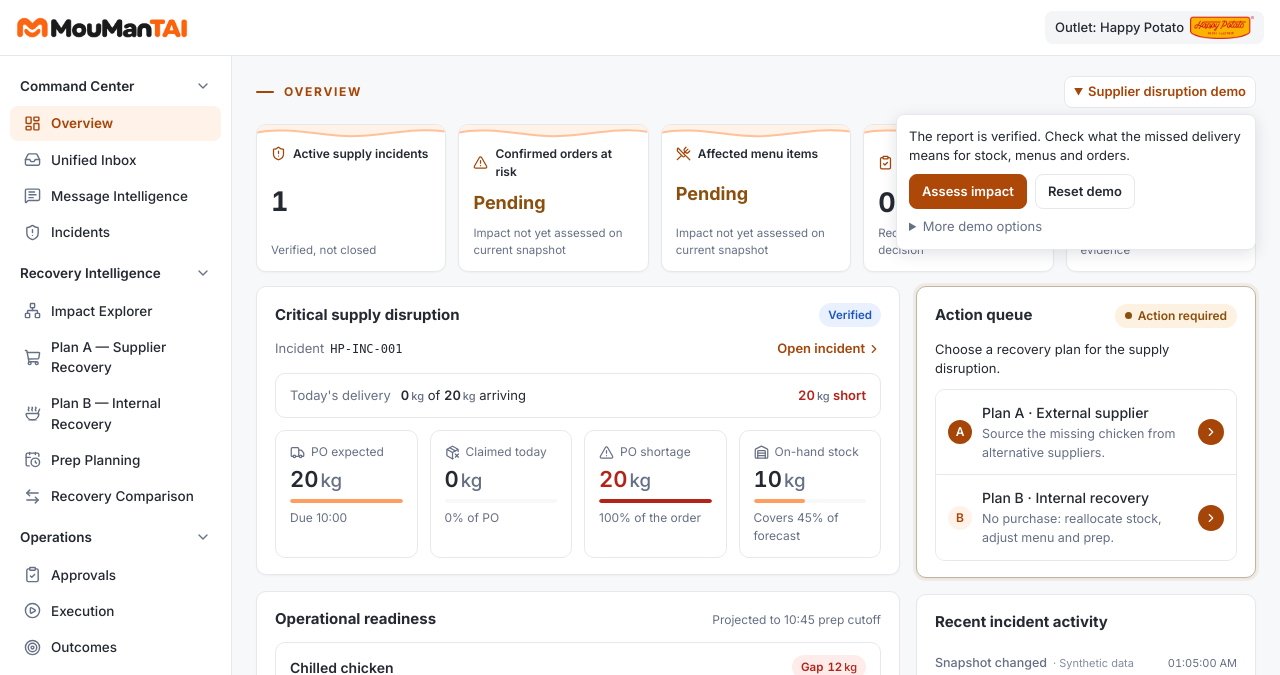
Operations Overview › shows Pending for verified-but-unassessed, then values after assessment
Expected: the text "Pending" below "Confirmed orders at risk" is shown, [473, 192, 546, 213]
Click the button "Assess impact" at x=968, y=191, box [909, 174, 1027, 209]
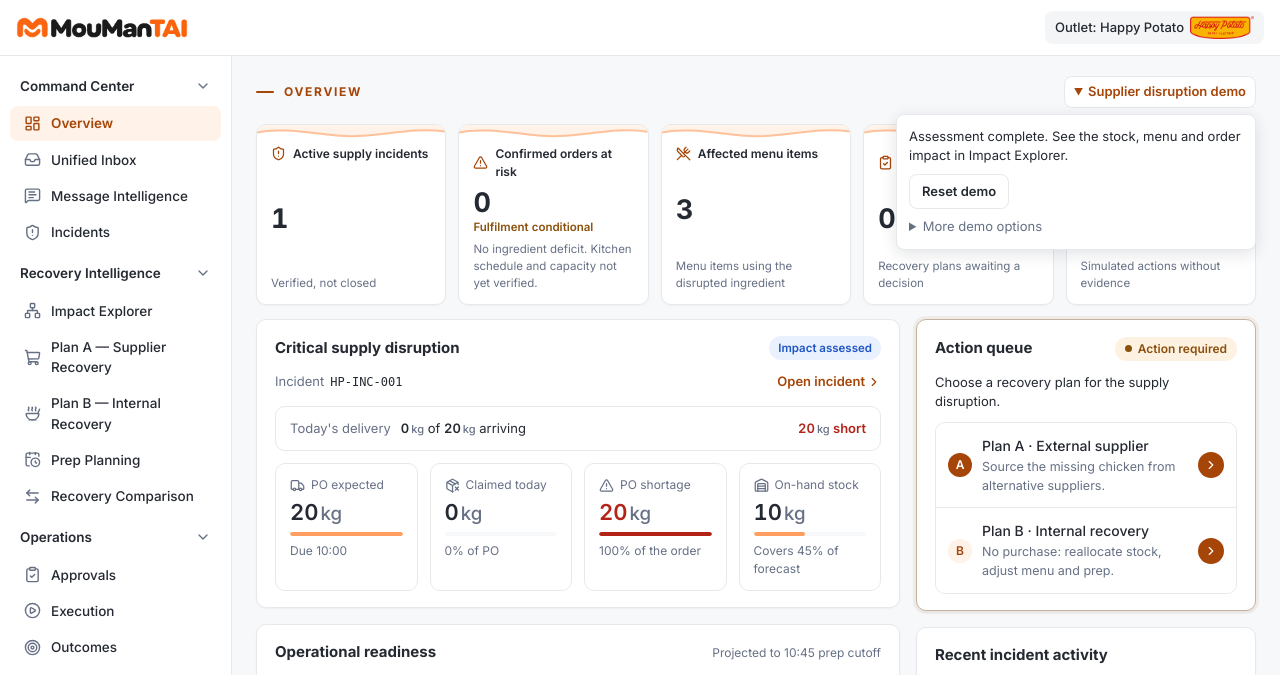
Expected: the text "1" is shown, [271, 202, 288, 235]
Expected: the text "3" is shown, [676, 193, 693, 226]
Expected: the text "0" is shown, [473, 186, 491, 218]
